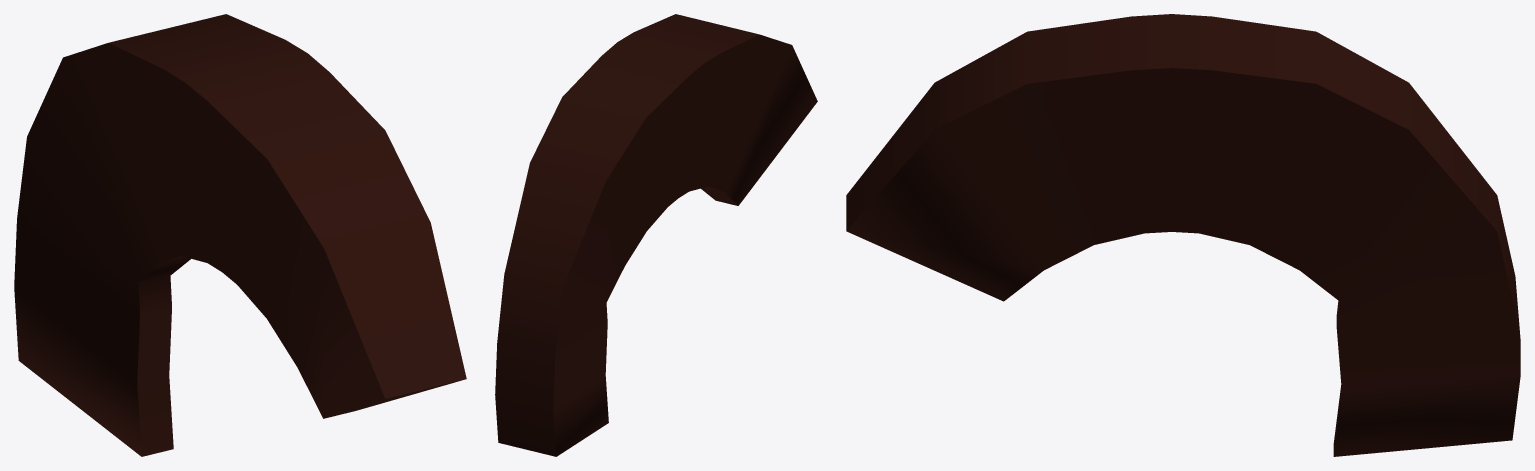
Rendered from Hair05.FBX.
3 views of the same model, side by side, from view 1: azimuth 30°, elevation 25°; view 2: azimuth 150°, elevation 25°; view 3: azimuth 270°, elevation 25° (orthographic). The views are drawn at different scales.
Visible parts, largest first — view 1: Hair05; view 2: Hair05; view 3: Hair05.
Part boxes in pixels (left/top/right/bottom): Hair05: left=14, top=14, right=466, bottom=456; Hair05: left=495, top=14, right=817, bottom=456; Hair05: left=846, top=14, right=1520, bottom=456.
Bounding box in the file's own units: 95.95 × 338 × 506.
